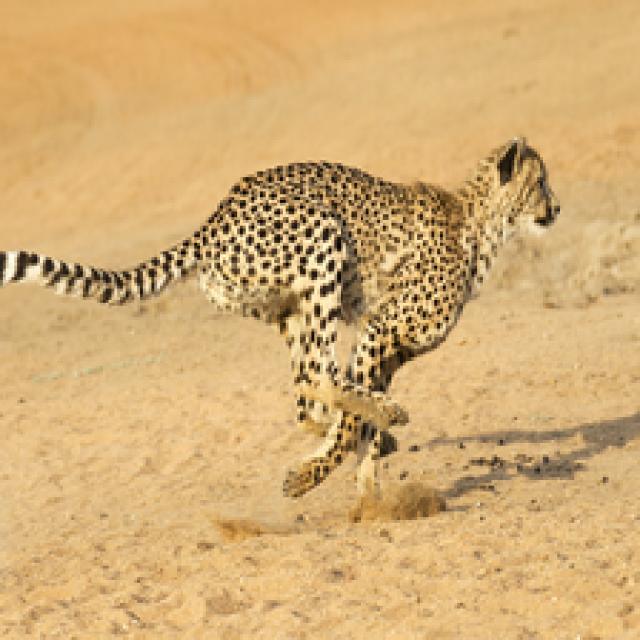cheetah: (0, 105, 608, 509)
